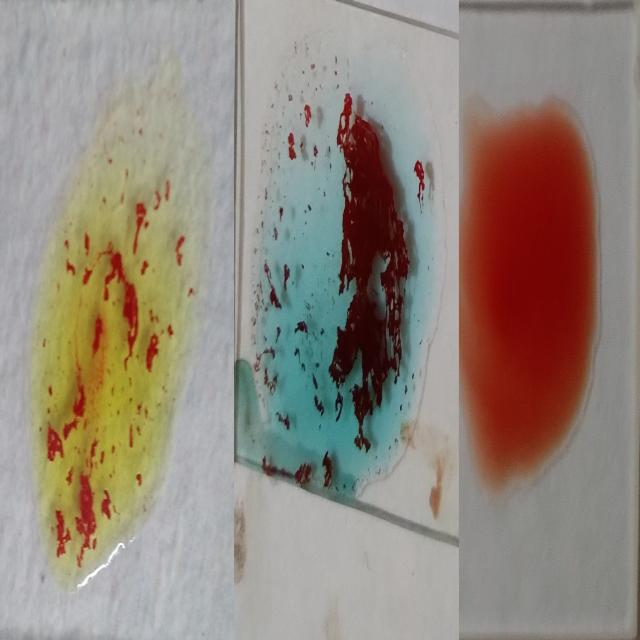A: (256, 26, 436, 487)
B: (29, 76, 180, 600)
